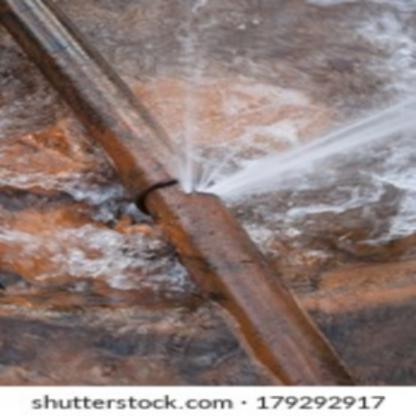burst: (168, 166, 244, 222)
